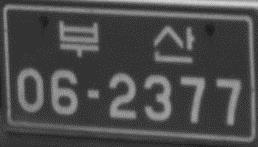-: (83, 85, 104, 101)
0: (15, 65, 45, 113)
2: (108, 70, 138, 122)
3: (142, 72, 174, 122)
6: (50, 67, 79, 116)
7: (213, 76, 244, 129), (178, 74, 206, 126)
부산_D: (56, 16, 195, 65)
